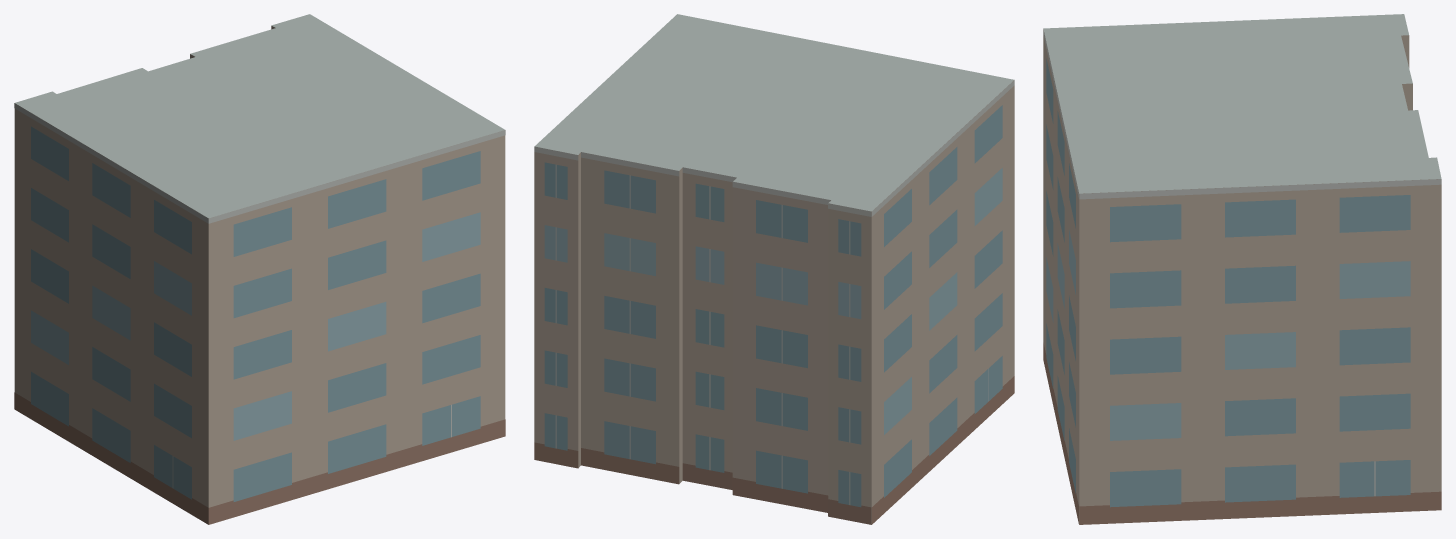
Rendered from survey-upis-32664192.glb.
3 views of the same model, side by side, from view 1: azimuth 30°, elevation 25°; view 2: azimuth 150°, elevation 25°; view 3: azimuth 270°, elevation 25° (orthographic). The views are drawn at different scales.
Visible parts, largest first — view 1: survey-upis-32664192.tmp; view 2: survey-upis-32664192.tmp; view 3: survey-upis-32664192.tmp.
Part boxes in pixels (bbox=[...]): survey-upis-32664192.tmp: bbox=[14, 14, 505, 524]; survey-upis-32664192.tmp: bbox=[534, 14, 1014, 524]; survey-upis-32664192.tmp: bbox=[1043, 14, 1441, 524].
Bounding box in the file's own units: 16.17 × 13.9 × 15.15.
